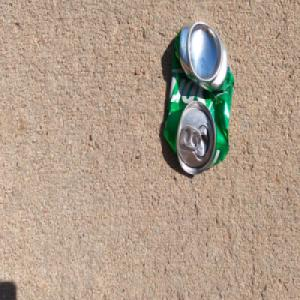SodaCan: (161, 22, 234, 180)
